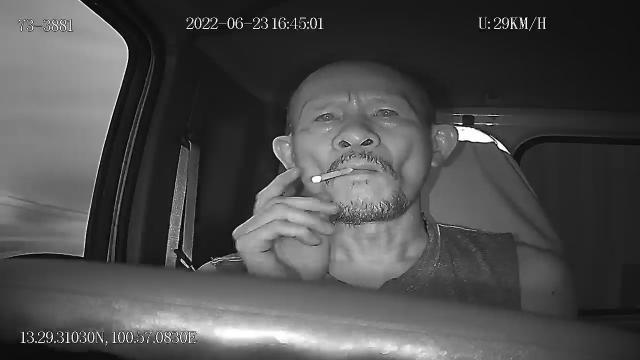SafeDriving: (5, 0, 91, 41), (306, 102, 346, 132), (364, 99, 406, 126)
Smoking: (311, 166, 355, 184)
